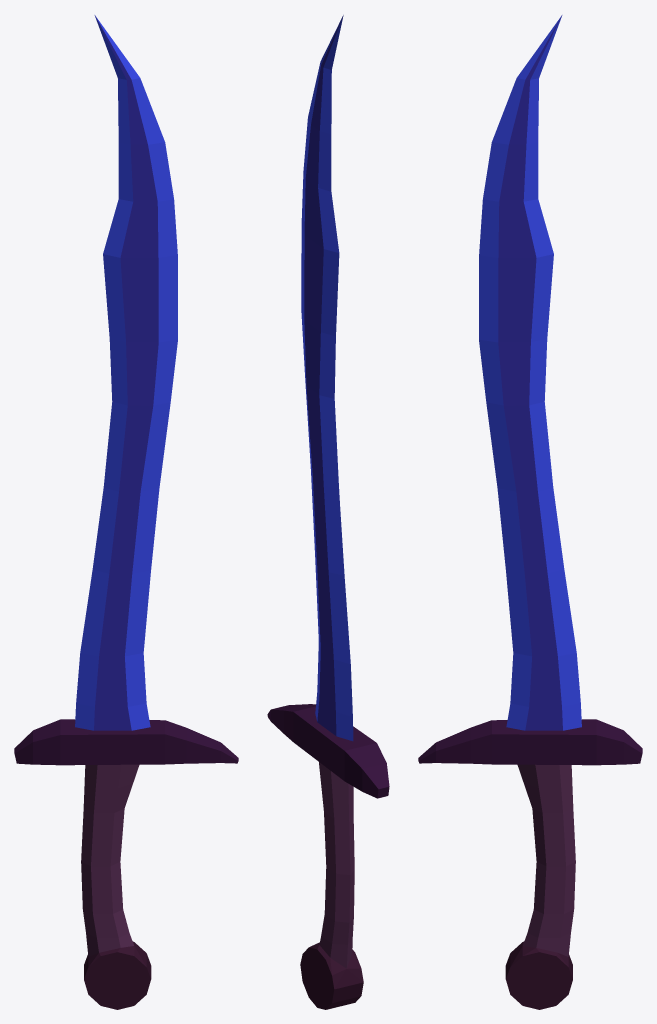
The model's file is sword.glb.
3 renders of one model, left to right at view 1: azimuth 90°, elevation 25°; view 2: azimuth 210°, elevation 25°; view 3: azimuth 270°, elevation 25°, orthographic.
Visible parts, largest first — view 1: Circle; view 2: Circle; view 3: Circle.
Boxes of the visible parts, x1,y1,x2,y2 form: Circle: [14, 15, 238, 1009]; Circle: [267, 15, 389, 1009]; Circle: [418, 15, 642, 1009].
Bounding box in the file's own units: 0.942 × 27.78 × 5.7.
